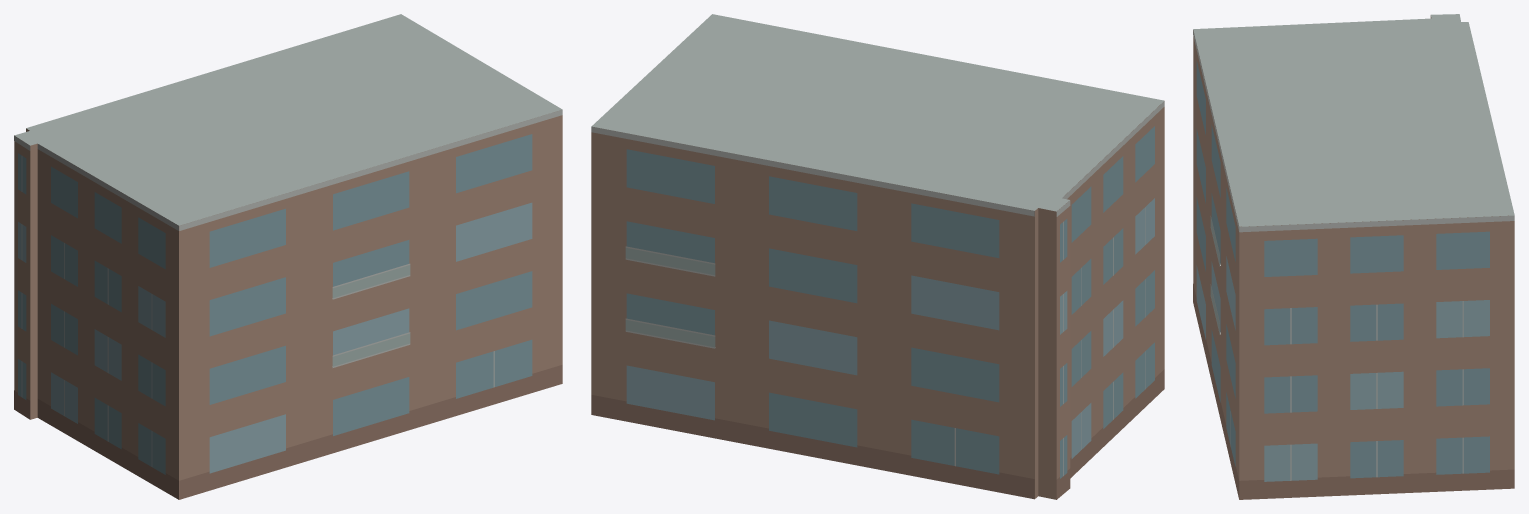
File: survey-upis-32670196.glb
3 views of the same model, side by side, from view 1: azimuth 30°, elevation 25°; view 2: azimuth 150°, elevation 25°; view 3: azimuth 270°, elevation 25° (orthographic). The views are drawn at different scales.
Parts seen in each view (by area): view 1: survey-upis-32670196.tmp; view 2: survey-upis-32670196.tmp; view 3: survey-upis-32670196.tmp.
Part boxes in pixels (bbox=[...]): survey-upis-32670196.tmp: bbox=[14, 14, 562, 499]; survey-upis-32670196.tmp: bbox=[591, 14, 1164, 499]; survey-upis-32670196.tmp: bbox=[1193, 14, 1514, 499].
Size of the model in its own units: 20.4 by 12.2 by 13.03.
